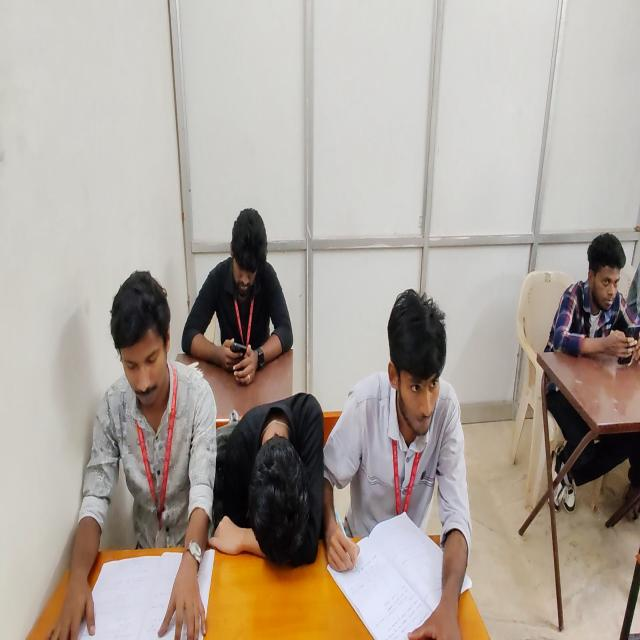listening: (338, 284, 473, 640)
reading: (47, 270, 219, 640)
sleeping: (208, 387, 324, 575)
using_mobile: (540, 229, 640, 518), (180, 206, 296, 384)
